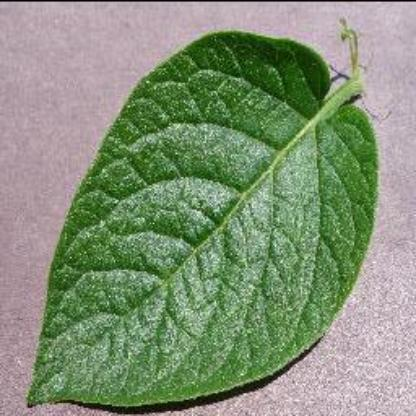Healthy-plant: (26, 24, 380, 412)
